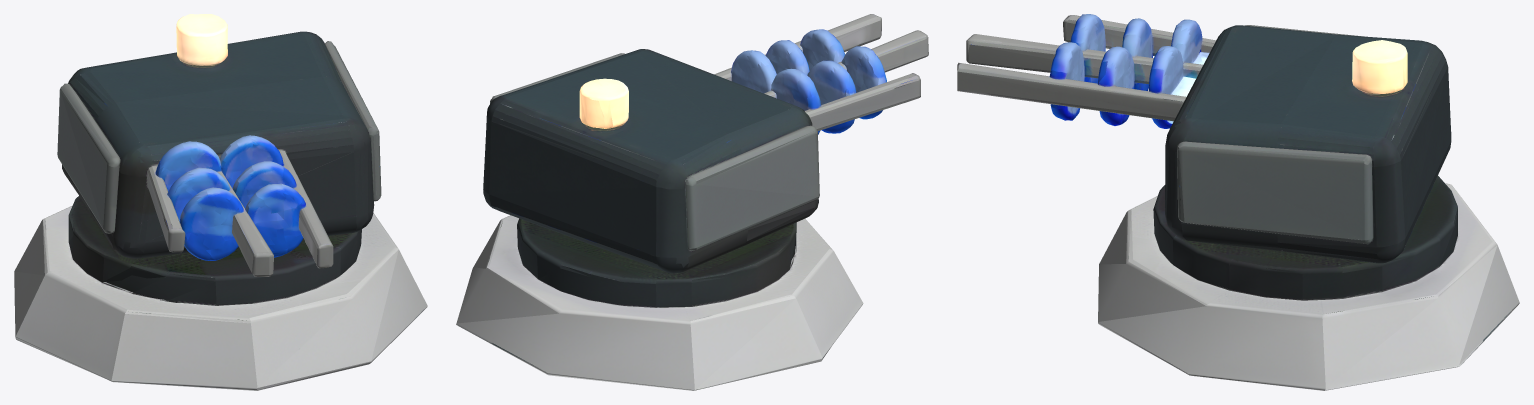
File: particle-cannon.glb
3 views of the same model, side by side, from view 1: azimuth 30°, elevation 25°; view 2: azimuth 150°, elevation 25°; view 3: azimuth 270°, elevation 25° (orthographic). The views are drawn at different scales.
Bounding box in the file's own units: 0.791 × 0.5117 × 1.
1 material, 1 textured.
